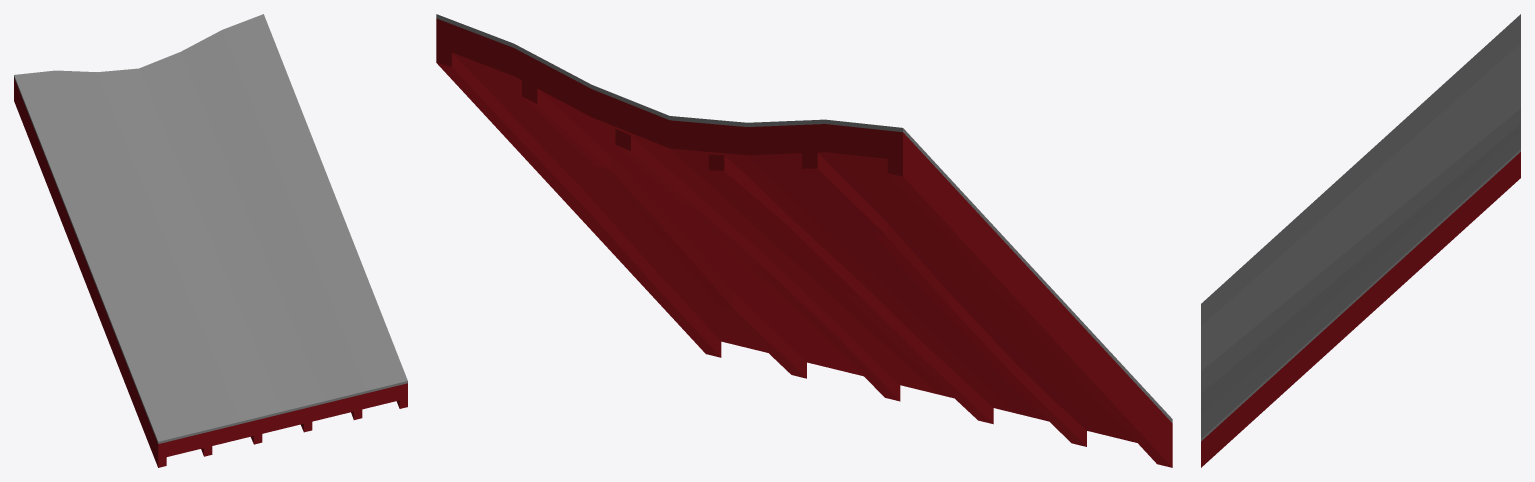
Rendered from SM_MH_01_Slate_Roof_02.fbx.
3 renders of one model, left to right at view 1: azimuth 30°, elevation 25°; view 2: azimuth 150°, elevation 25°; view 3: azimuth 270°, elevation 25°, orthographic. The views are drawn at different scales.
Visible parts, largest first — view 1: SM_MH_01_Slate_Roof_02_LOD0; view 2: SM_MH_01_Slate_Roof_02_LOD0; view 3: SM_MH_01_Slate_Roof_02_LOD0.
Part boxes in pixels (box(x1,y1,x2,y2)): SM_MH_01_Slate_Roof_02_LOD0: box(14, 14, 407, 467); SM_MH_01_Slate_Roof_02_LOD0: box(436, 14, 1172, 467); SM_MH_01_Slate_Roof_02_LOD0: box(1201, 14, 1520, 467).
Size of what is drawn, in the model's own units: 300 by 330 by 300.
